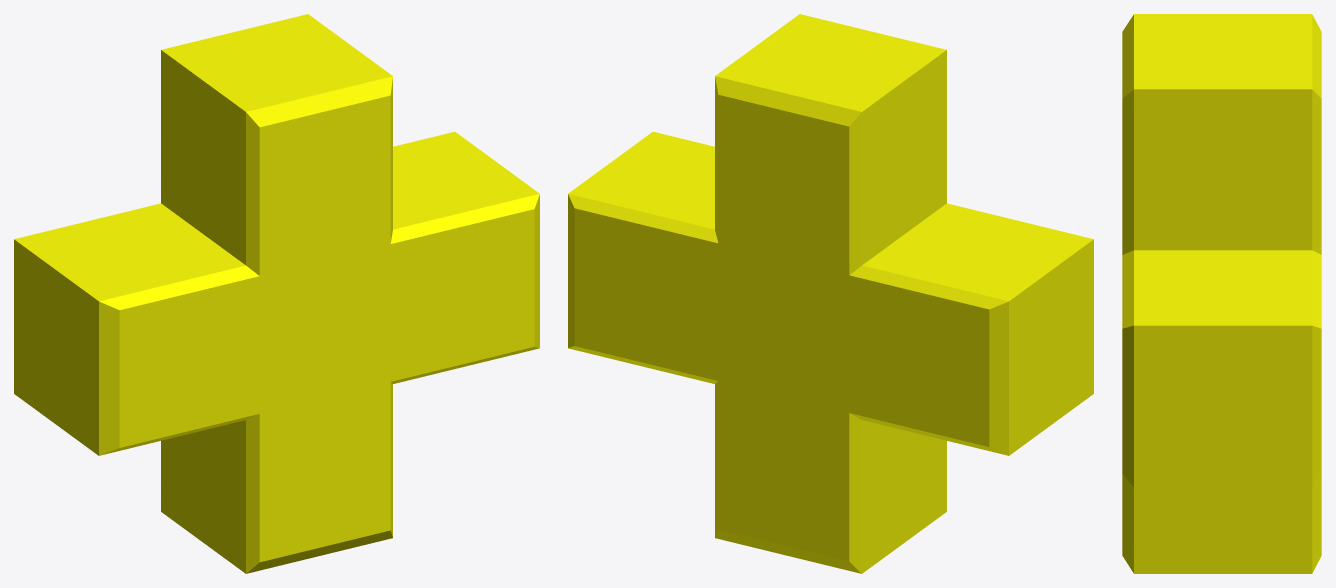
File: plus.fbx
3 renders of one model, left to right at view 1: azimuth 30°, elevation 25°; view 2: azimuth 150°, elevation 25°; view 3: azimuth 270°, elevation 25°, orthographic. The views are drawn at different scales.
Parts seen in each view (by area): view 1: pCube94; view 2: pCube94; view 3: pCube94.
Part boxes in pixels (bbox=[...]): pCube94: bbox=[14, 14, 539, 573]; pCube94: bbox=[568, 14, 1093, 573]; pCube94: bbox=[1122, 14, 1321, 573].
Bounding box in the file's own units: 3 × 3 × 1.12.
